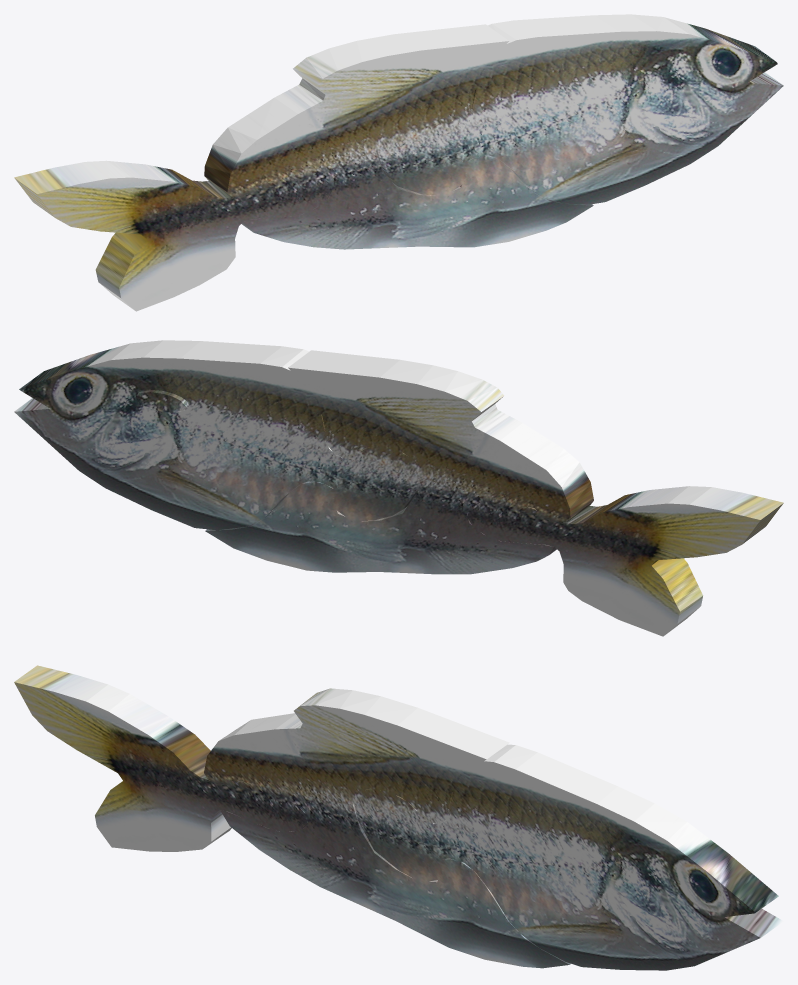
Rendered from Fish_swarm_Tailfish.dae.
3 renders of one model, top to bottom at view 1: azimuth 30°, elevation 25°; view 2: azimuth 150°, elevation 25°; view 3: azimuth 330°, elevation 25°, orthographic.
Parts seen in each view (by area): view 1: Line01; view 2: Line01; view 3: Line01.
Part boxes in pixels (box(x1,y1,x2,y2)): Line01: box(14, 14, 783, 311); Line01: box(14, 340, 783, 636); Line01: box(14, 665, 783, 970).
Size of the model in its own units: 1.85 by 0.1151 by 0.5077.
1 material, 1 textured.
